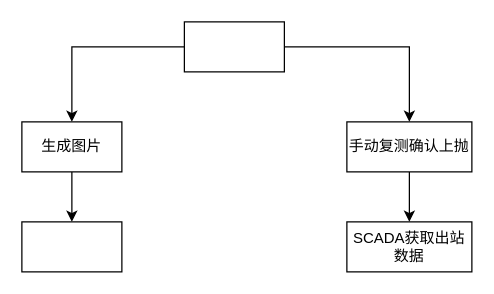
Some shapes in this 494 by 294 pixel diagram are drawn without their labels. Here are the shapes that lost their labels. From the top down, the centre of each, then its label:
point 233,46: 进站测试
point 71,246: 自动上传
